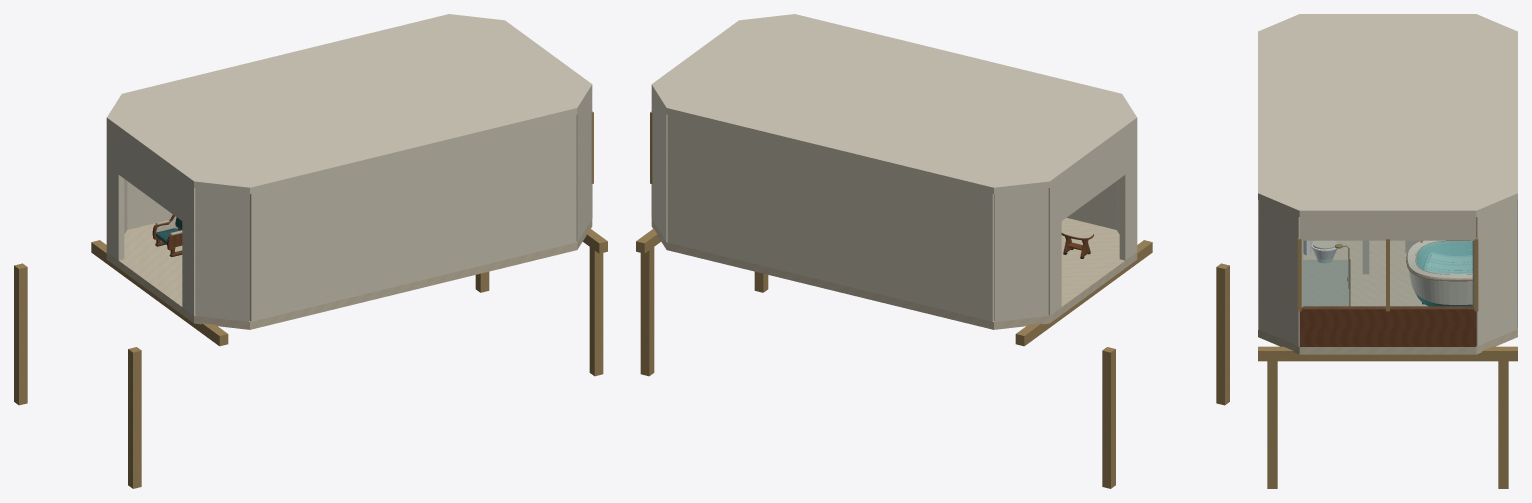
The model's file is D04_PORT_AFT_HOME_996_r001.glb.
3 views of the same model, side by side, from view 1: azimuth 30°, elevation 25°; view 2: azimuth 150°, elevation 25°; view 3: azimuth 270°, elevation 25° (orthographic).
Visible parts, largest first — view 1: PA996_D04SH991_Roof, PA996_D04SH991_Shell_7, PA996_D04SH991_Shell_0, PA996_D04SH991_Floor, PA996_D04SH991_EntryHeader, PA996_D04SH991_EntryWall_1, PA996_D04SH991_Shell_6, PA996_D04SH991_Pier_7, PA996_D04SH991_Pier_5, PA996_D04SH991_Pier_6, PA996_D04SH991_EntryWall_0, PA996_D04SH991_Shell_3 (+1 smaller); view 2: PA996_D04SH991_Roof, PA996_D04SH991_Shell_3, PA996_D04SH991_Floor, PA996_D04SH991_Shell_2, PA996_D04SH991_EntryHeader, PA996_D04SH991_EntryWall_0, PA996_D04SH991_Shell_4, PA996_D04SH991_Pier_6, PA996_D04SH991_Pier_5, PA996_D04SH991_Pier_8, PA996_D04SH991_EntryWall_1, PA996_D04SH991_Shell_7 (+1 smaller); view 3: PA996_D04SH991_Roof, PA996_D04SH991_GardenGlass, PA996_D04SH991_Floor, PA996_D04SH991_GardenDado, PA996_D04SH991_Shell_4, PA996_D04SH991_Shell_6, PA996_D04SH991_GardenHead, PA996_ReservedAquaticRest_2__Hollow continuous basin shell w, PA996_D04SH991_Long_-29.35, PA996_Shower__SHW_SideGlass, PA996_D04SH991_Pier_7, PA996_D04SH991_Pier_8 (+6 smaller).
Boxes of the visible parts, x1,y1,x2,y2 form: PA996_D04SH991_Roof: [106, 14, 592, 194]; PA996_D04SH991_Shell_7: [249, 115, 576, 321]; PA996_D04SH991_Shell_0: [195, 188, 249, 321]; PA996_D04SH991_Floor: [106, 219, 592, 329]; PA996_D04SH991_EntryHeader: [118, 133, 182, 220]; PA996_D04SH991_EntryWall_1: [106, 124, 124, 260]; PA996_D04SH991_Shell_6: [576, 92, 591, 241]; PA996_D04SH991_Pier_7: [589, 234, 603, 376]; PA996_D04SH991_Pier_5: [128, 347, 141, 488]; PA996_D04SH991_Pier_6: [14, 263, 27, 405]; PA996_D04SH991_EntryWall_0: [182, 179, 195, 315]; PA996_D04SH991_Shell_3: [127, 181, 172, 229]; PA996_D04SH991_Roof: [651, 14, 1137, 194]; PA996_D04SH991_Shell_3: [667, 115, 994, 321]; PA996_D04SH991_Floor: [651, 218, 1137, 329]; PA996_D04SH991_Shell_2: [994, 188, 1048, 321]; PA996_D04SH991_EntryHeader: [1061, 133, 1125, 220]; PA996_D04SH991_EntryWall_0: [1119, 124, 1137, 260]; PA996_D04SH991_Shell_4: [652, 92, 667, 241]; PA996_D04SH991_Pier_6: [1102, 347, 1115, 488]; PA996_D04SH991_Pier_5: [1216, 263, 1229, 405]; PA996_D04SH991_Pier_8: [640, 234, 654, 376]; PA996_D04SH991_EntryWall_1: [1048, 179, 1061, 315]; PA996_D04SH991_Shell_7: [1066, 181, 1116, 229]; PA996_D04SH991_Roof: [1258, 14, 1517, 217]; PA996_D04SH991_GardenGlass: [1303, 241, 1472, 308]; PA996_D04SH991_Floor: [1258, 240, 1517, 354]; PA996_D04SH991_GardenDado: [1299, 306, 1476, 346]; PA996_D04SH991_Shell_4: [1472, 200, 1516, 346]; PA996_D04SH991_Shell_6: [1259, 200, 1303, 346]; PA996_D04SH991_GardenHead: [1299, 217, 1476, 240]; PA996_ReservedAquaticRest_2__Hollow continuous basin shell w: [1407, 240, 1472, 306]; PA996_D04SH991_Long_-29.35: [1258, 346, 1517, 361]; PA996_Shower__SHW_SideGlass: [1303, 260, 1349, 305]; PA996_D04SH991_Pier_7: [1267, 346, 1277, 488]; PA996_D04SH991_Pier_8: [1498, 346, 1508, 488].
Bounding box in the file's own units: 15.41 × 8.58 × 7.2.
51 materials, 21 textured.
